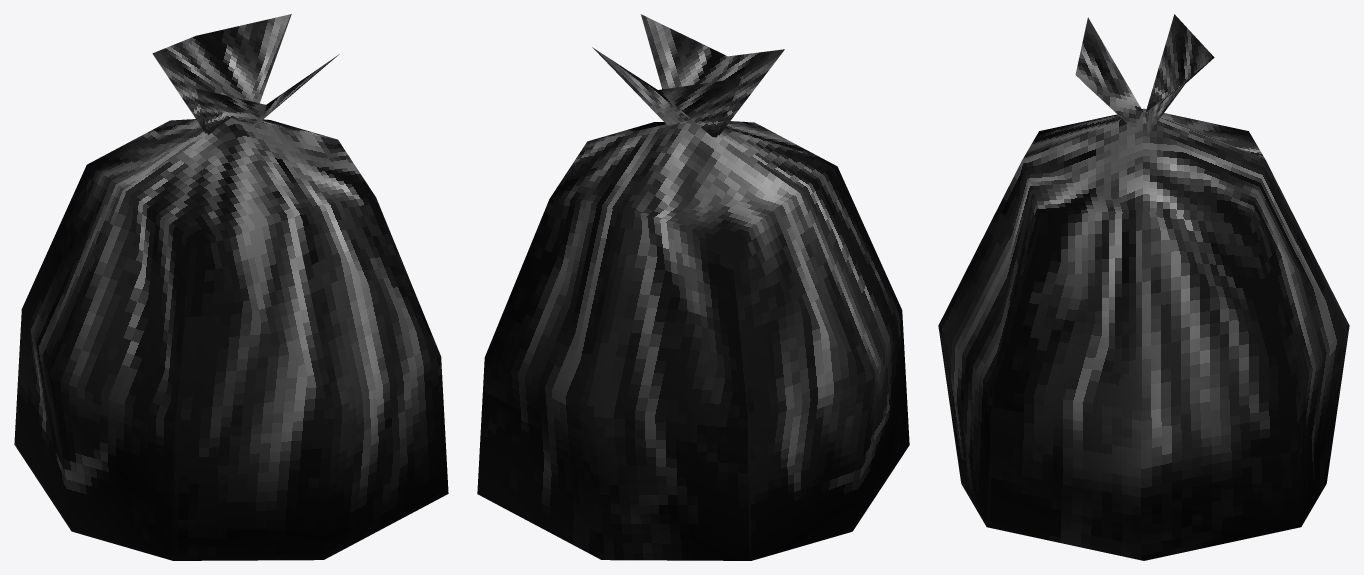
Rendered from trashbag_a.glb.
3 views of the same model, side by side, from view 1: azimuth 30°, elevation 25°; view 2: azimuth 150°, elevation 25°; view 3: azimuth 270°, elevation 25° (orthographic).
Parts seen in each view (by area): view 1: Cube, Plane; view 2: Cube, Plane; view 3: Cube, Plane.
Part boxes in pixels (left/top/right/bottom): Cube: left=14, top=118, right=448, bottom=560; Plane: left=152, top=14, right=339, bottom=134; Cube: left=477, top=119, right=909, bottom=560; Plane: left=592, top=14, right=784, bottom=137; Cube: left=938, top=108, right=1349, bottom=560; Plane: left=1075, top=14, right=1214, bottom=133.
Bounding box in the file's own units: 0.4327 × 0.55 × 0.4327.
Materials: 1 (1 with a texture image).
